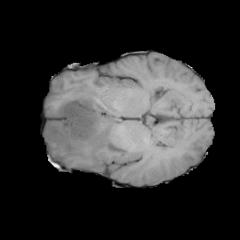glioma: (45, 85, 127, 170)
